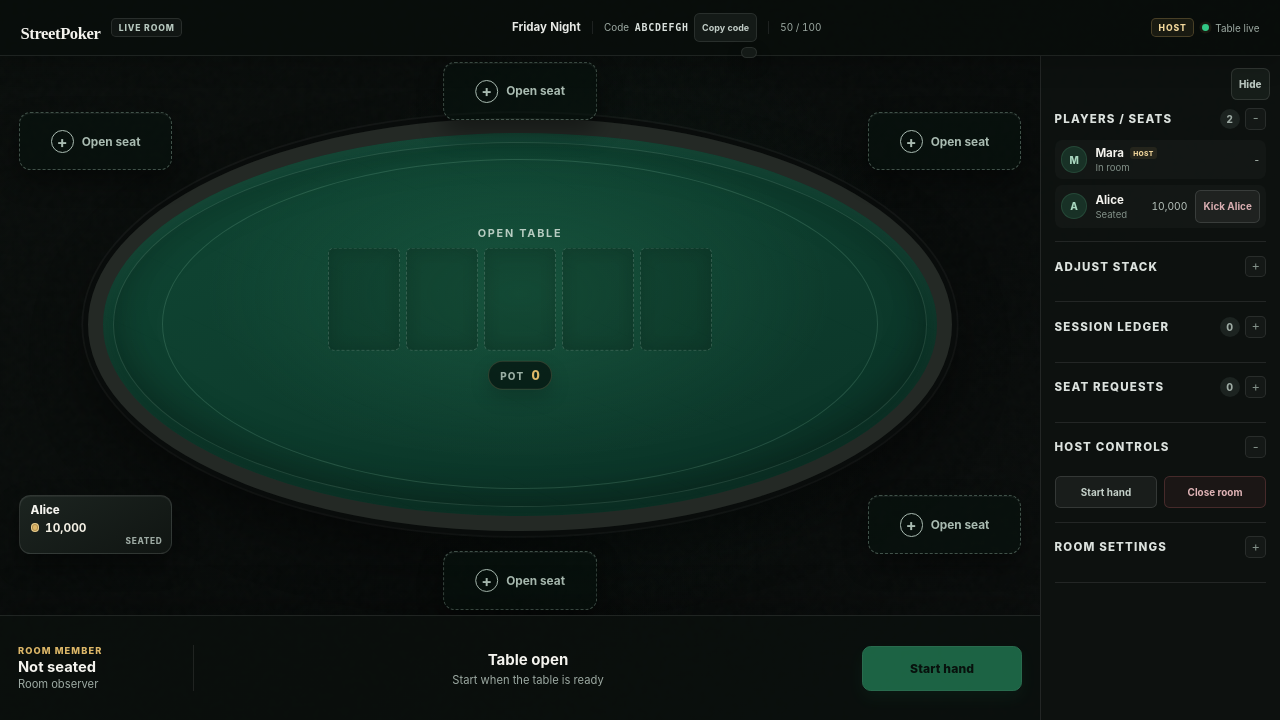
TableScreen › leaves the room code visible when clipboard copying fails
Click the button "Copy code".
click(726, 28)  # box [694,13,757,42]
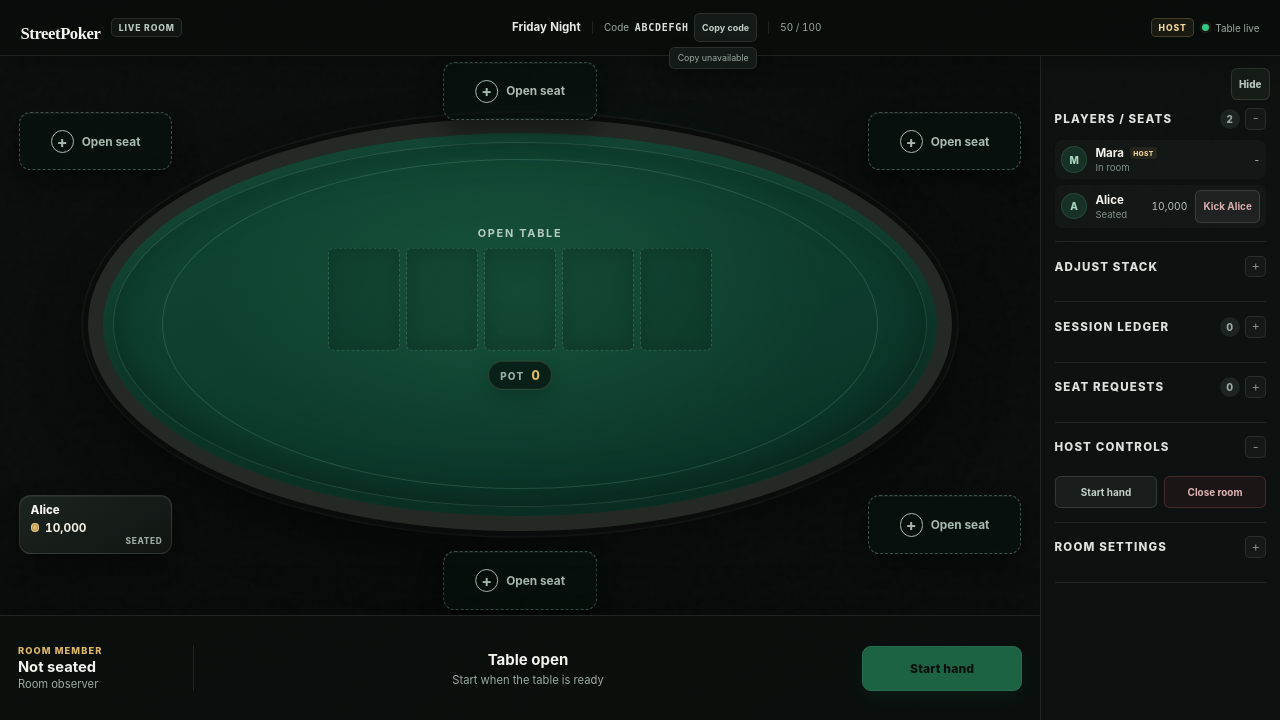
Expected: the text "ABCDEFGH" is shown, [635,22,689,33]
Now the text "Copy unavailable" is shown, box [669,47,757,69]
